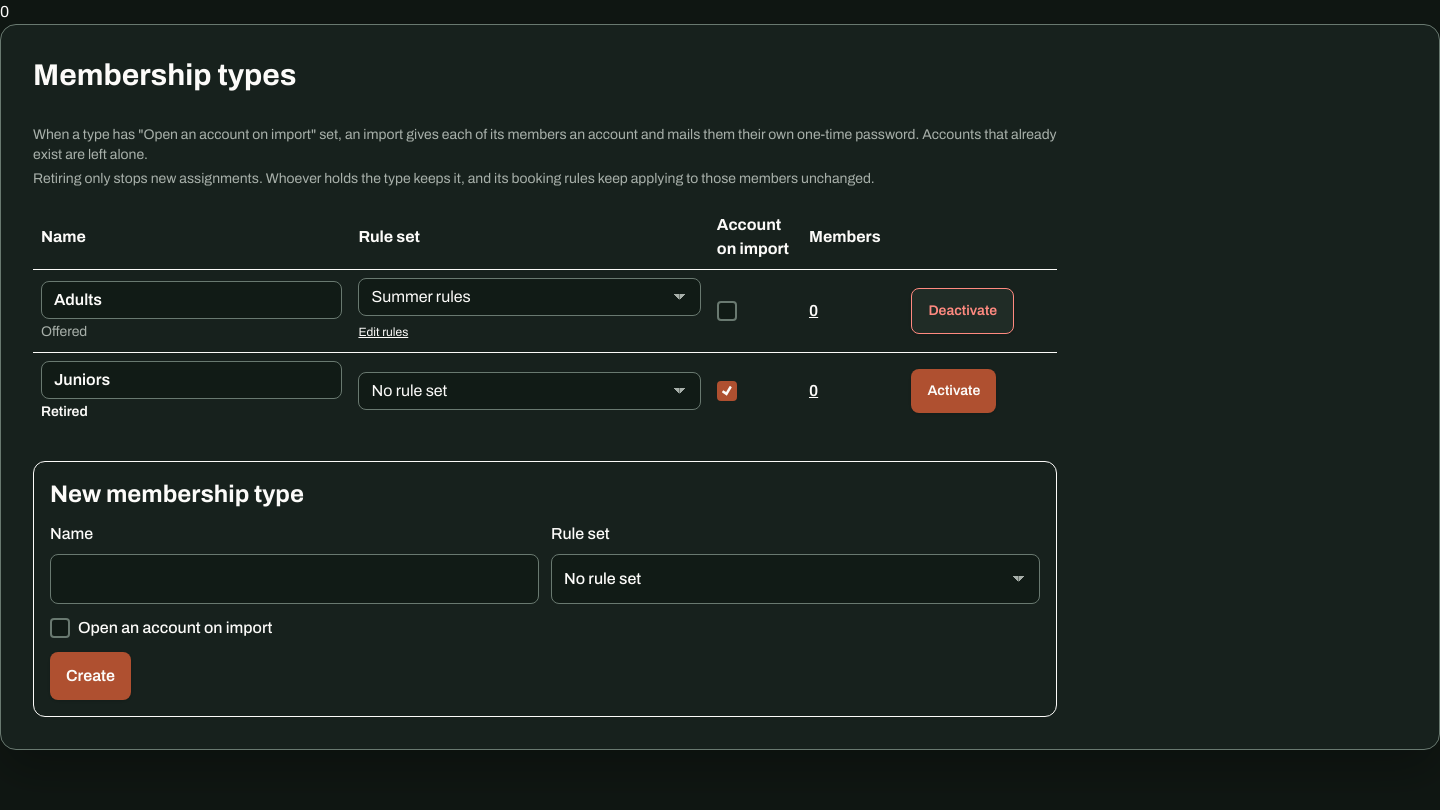
Test: AdminMembershipTypesView › given a type is renamed, when the name is typed back, then nothing is left to lose
Expected: the text with test id "unsaved-count" reads "0", [0,3,9,20]
Type "!" into the field with test id "membership-type-name-type-1".
click(192, 300); type("!")  # box [41,281,342,319]
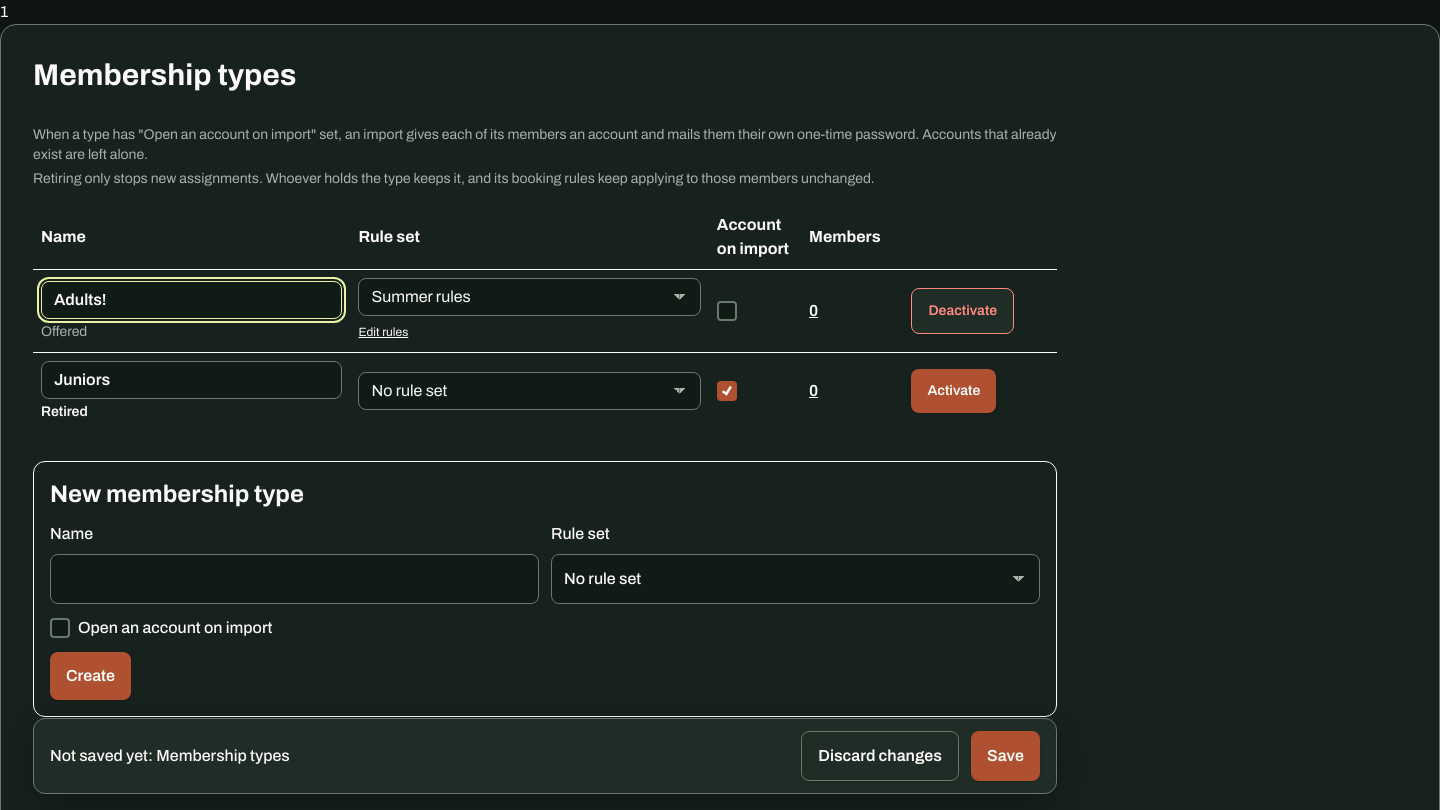
Result: the text with test id "unsaved-count" reads "1" at [0,3,8,20]
Replace the text in the field with test id "membership-type-name-type-1" with "Adults" at (192, 300), box [41,281,342,319]
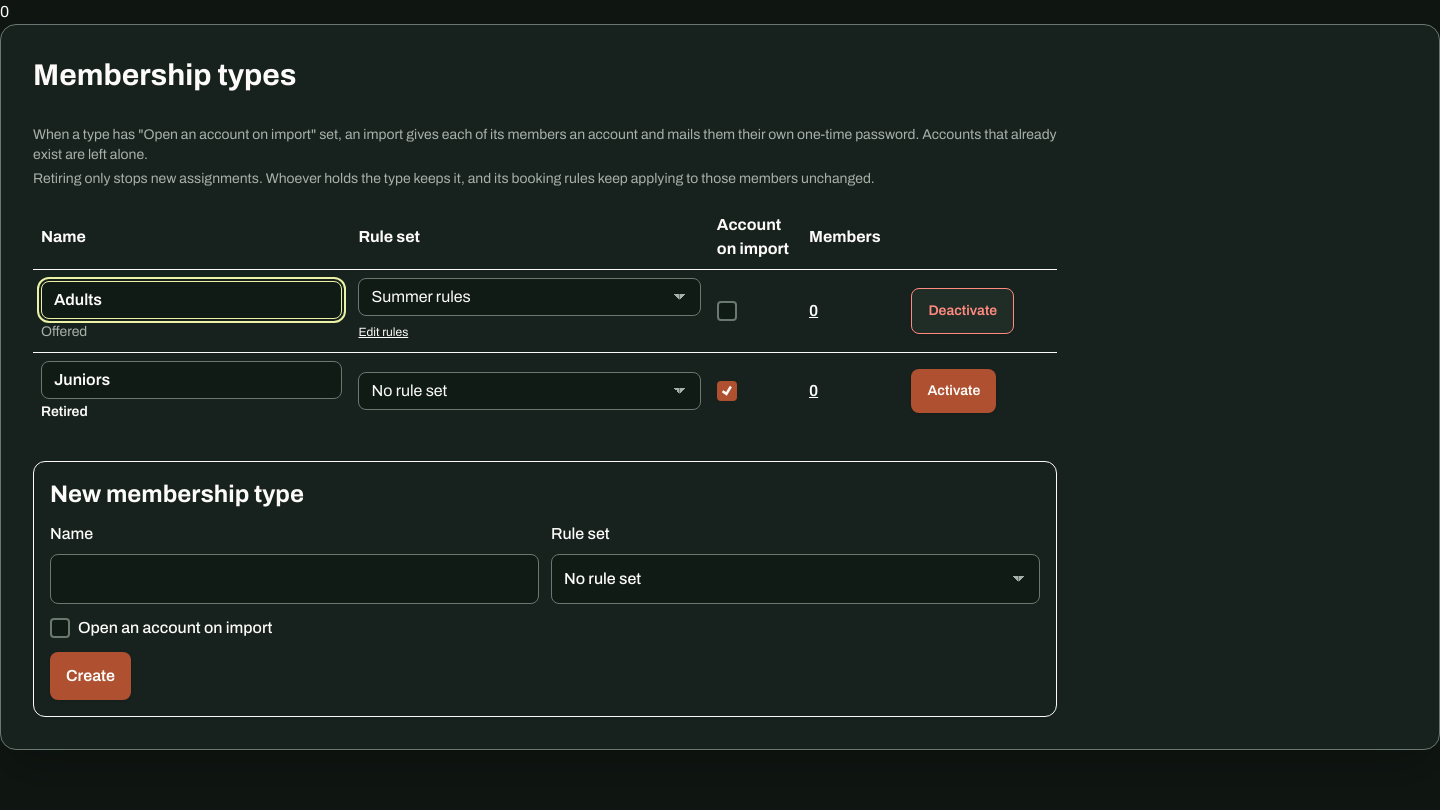
Result: the text with test id "unsaved-count" reads "0" at [0,3,9,20]
